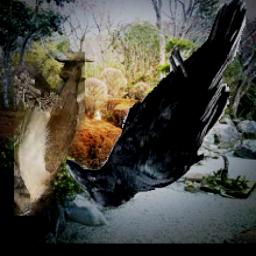Crow: (67, 0, 248, 209)
Cuckoo: (15, 53, 86, 217)
